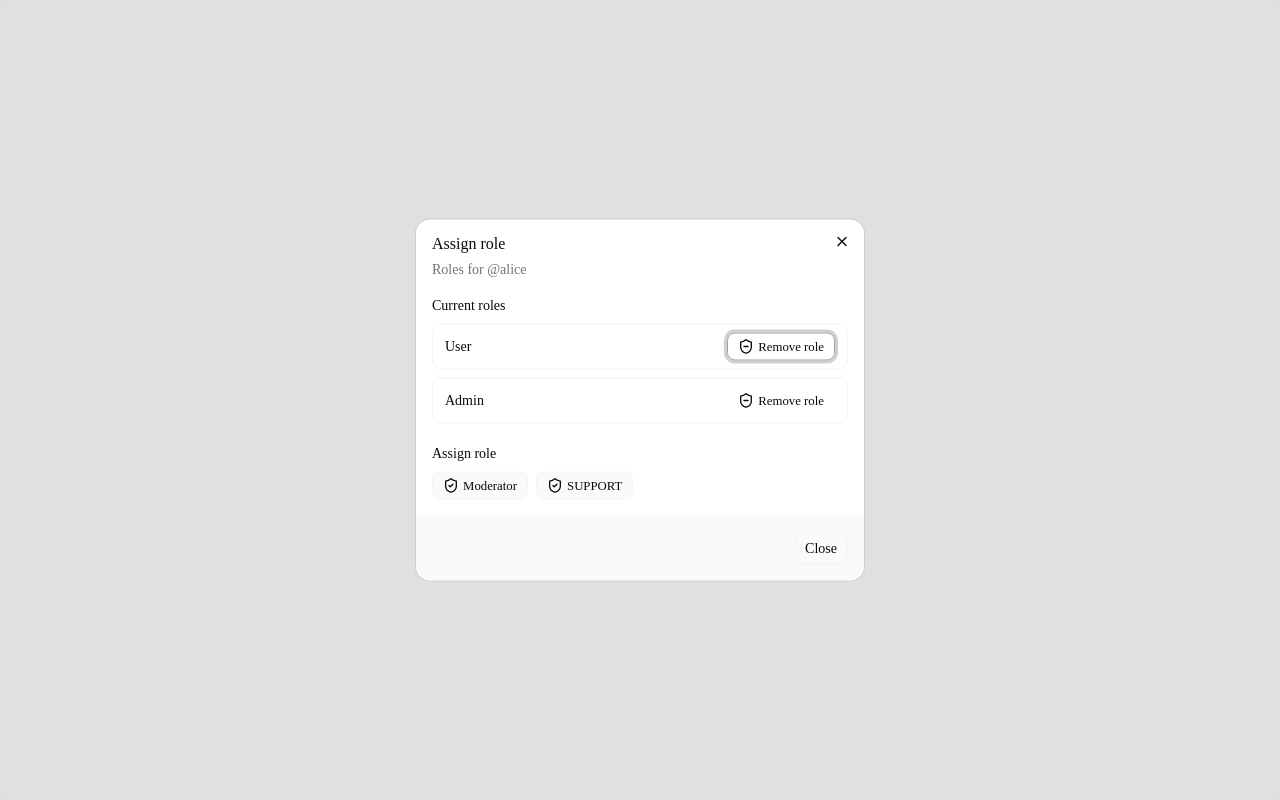
RoleAssignMenu › surfaces the mapped error when the assign mutation fails
Click the button "Moderator" at (480, 486), box [432,472,528,500]
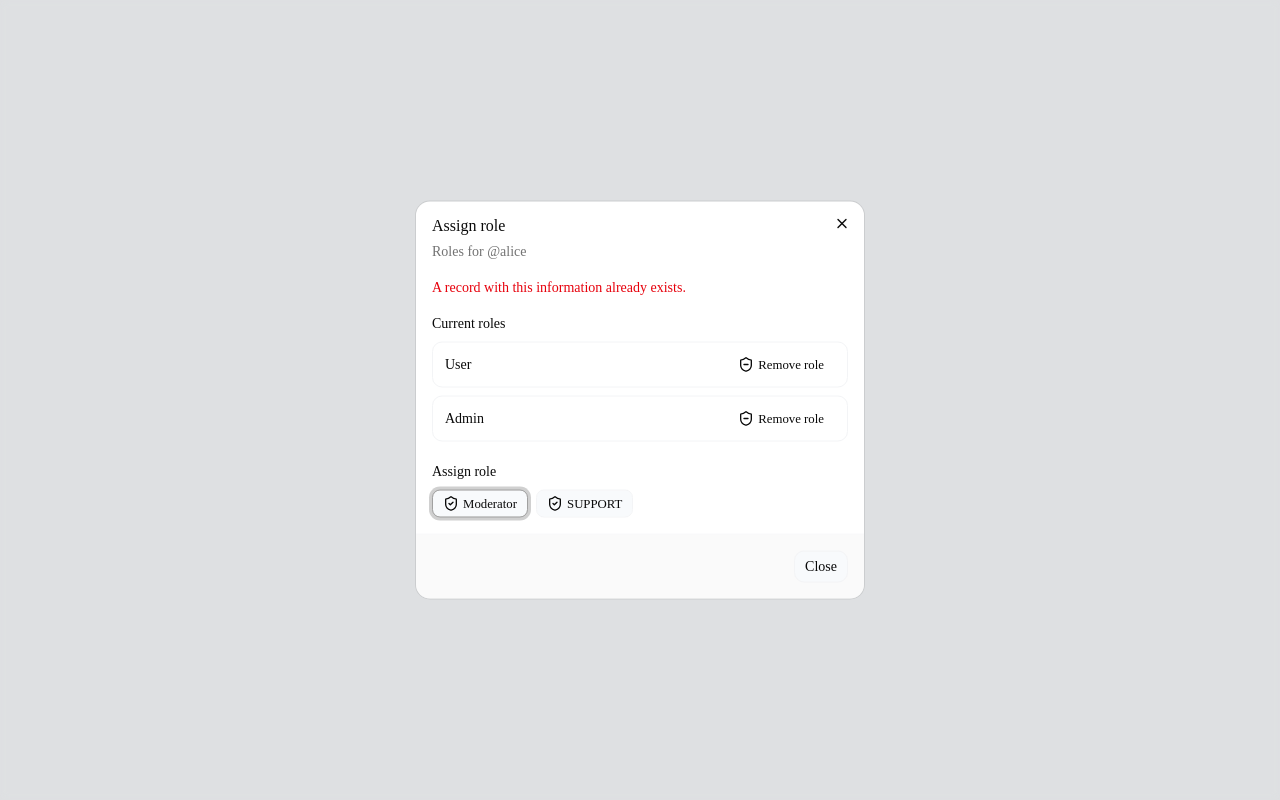
Check: the message reads "A record with this information already exists.", box [432,280,686,294]
